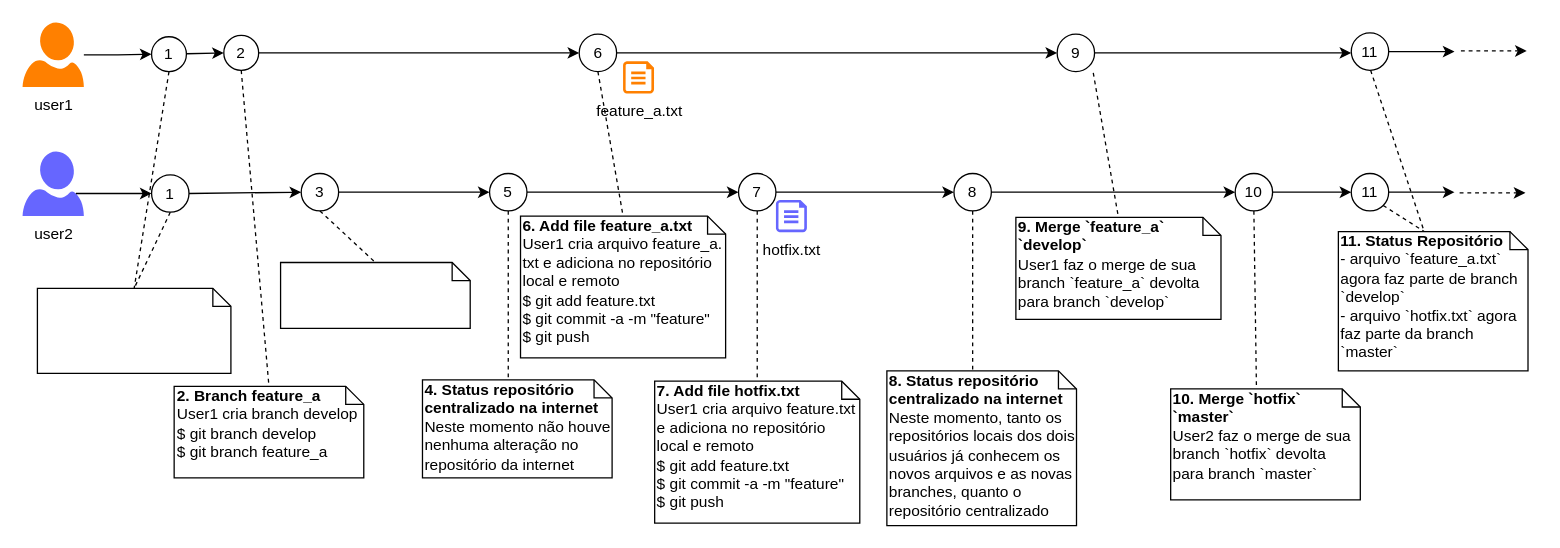
Image size: 1560x548. Some labels were removed from this diagram. The shapes that lost their labels are listed below. From the top down, each one's centre as x and y in pixels, then its label:
(x=374, y=294): 3. Branch hotfix User2 cria branch hotfix $ git branch hotfix
(x=133, y=330): 1. Clone User1, User2 e User3 clonam o repositório $ git clone
